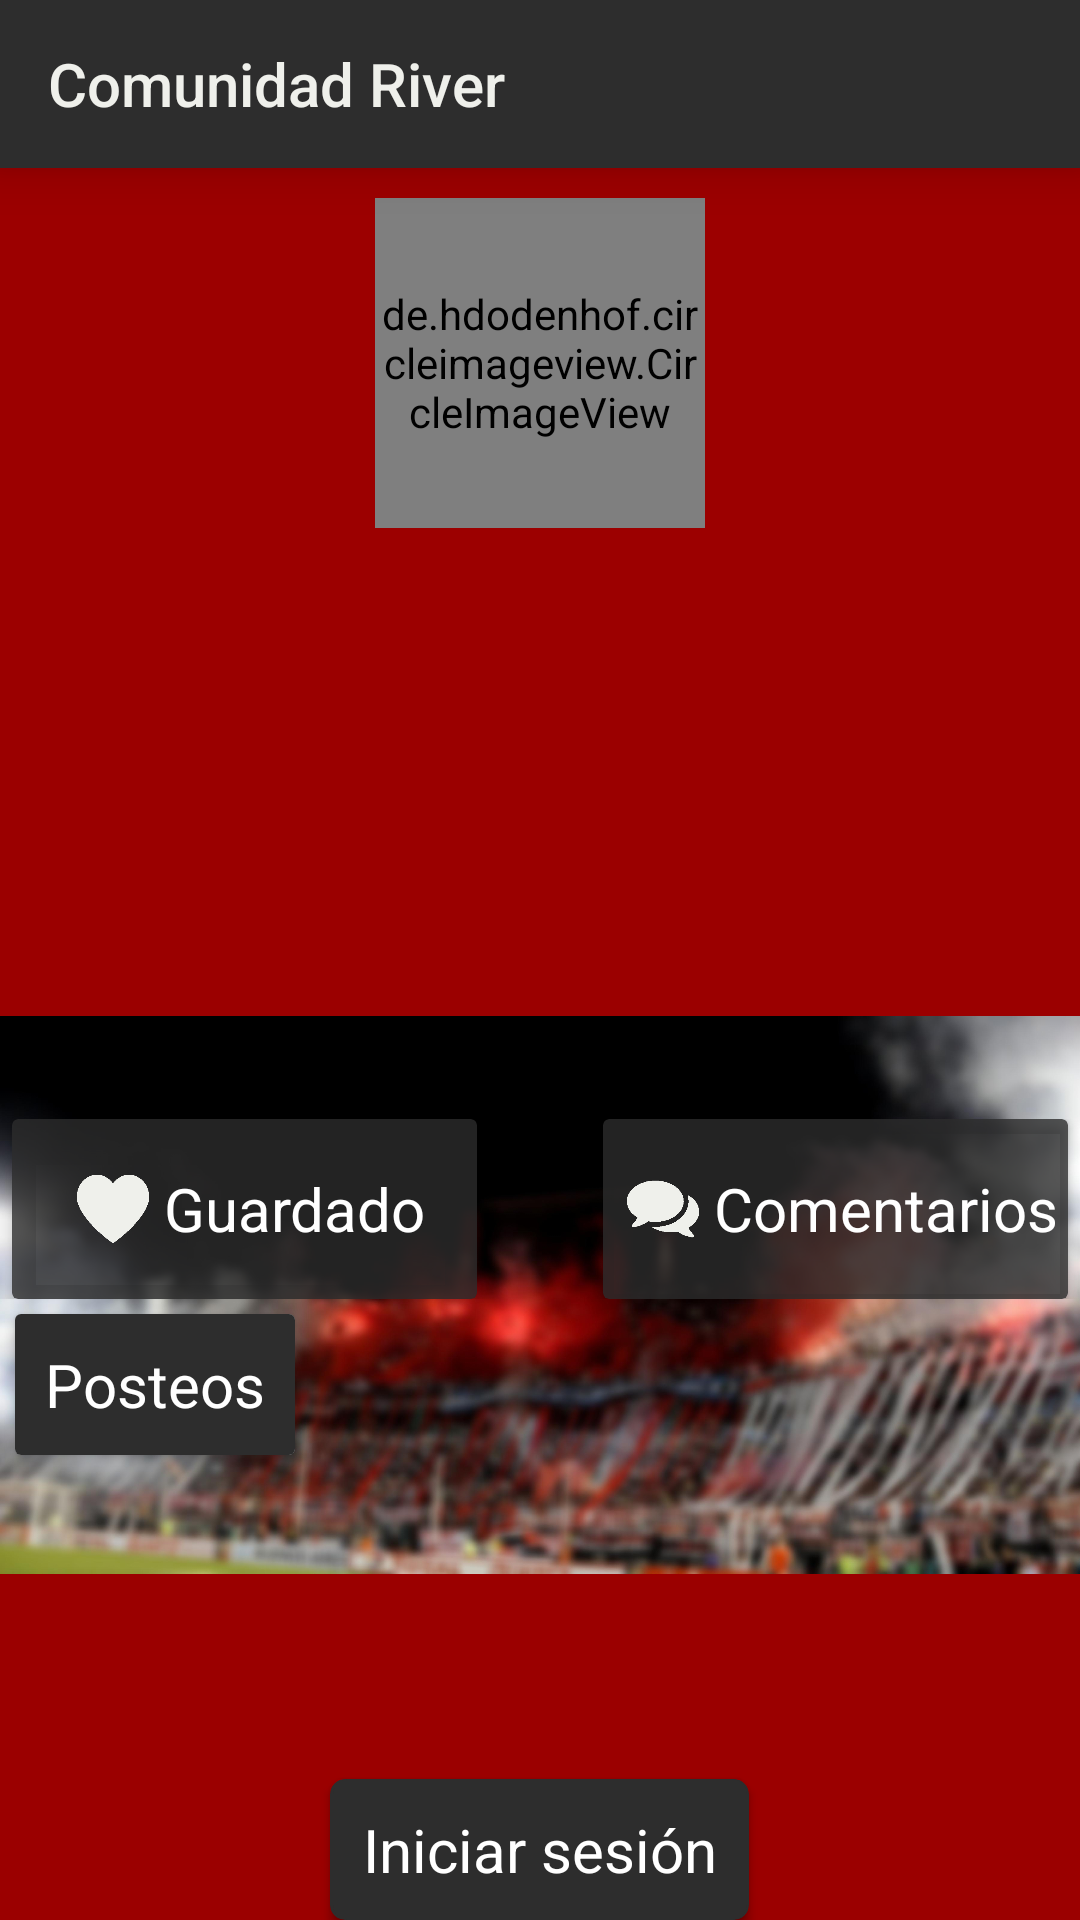

Icon bounding boxes for this 1080w x 1920h phone screenshot, format {"x1": x1, "y1": y1, "x2": x2, "y2": y2}:
like: {"x1": 77, "y1": 1175, "x2": 149, "y2": 1243}
